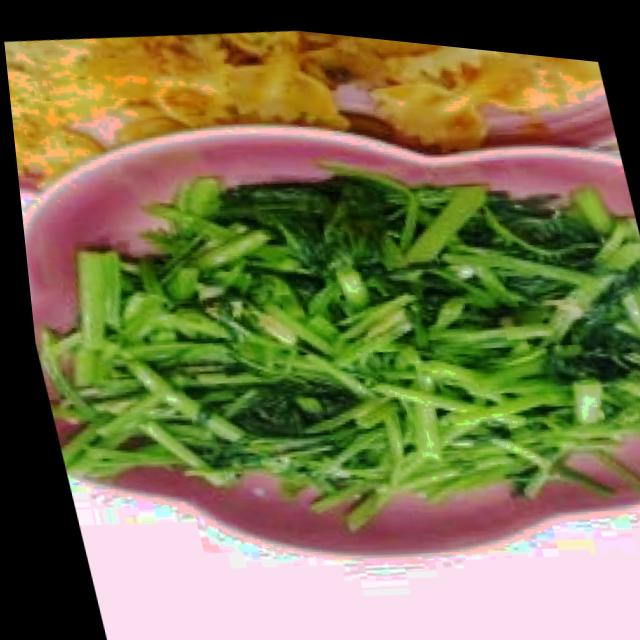water_spinach: (11, 108, 640, 586)
